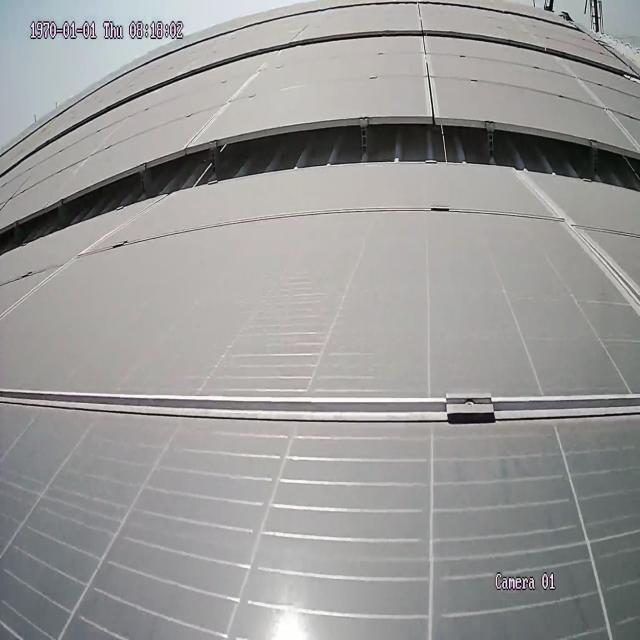interior panel: (0, 387, 638, 429), (520, 179, 640, 309)
outher panel: (2, 117, 638, 256)
